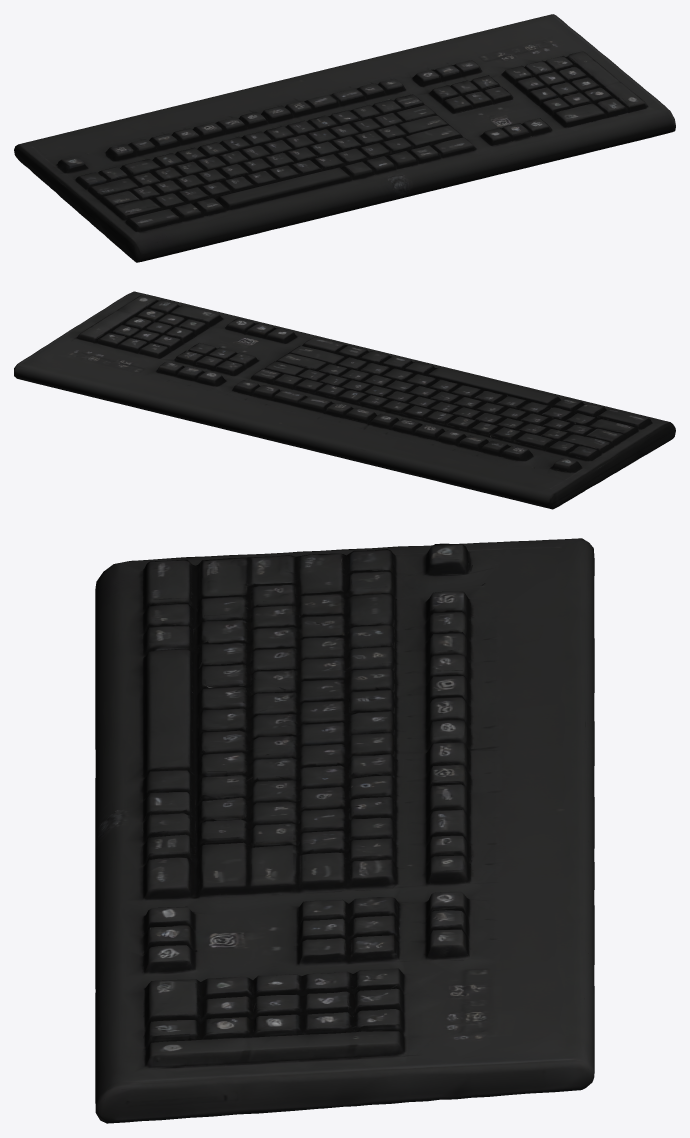
Rendered from klavyebake.fbx.
3 views of the same model, one above another, from view 1: azimuth 30°, elevation 25°; view 2: azimuth 150°, elevation 25°; view 3: azimuth 270°, elevation 25° (orthographic). The views are drawn at different scales.
Visible parts, largest first — view 1: klavye_low; view 2: klavye_low; view 3: klavye_low.
Part boxes in pixels (bbox=[...]): klavye_low: bbox=[14, 14, 675, 262]; klavye_low: bbox=[14, 291, 675, 509]; klavye_low: bbox=[95, 538, 594, 1123].
Size of the model in its own units: 1.91 by 0.1191 by 0.766.
